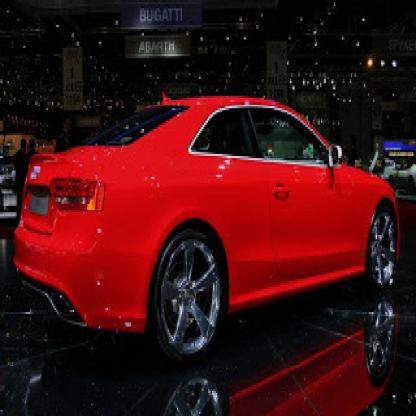Vehicle: (13, 88, 403, 374)
